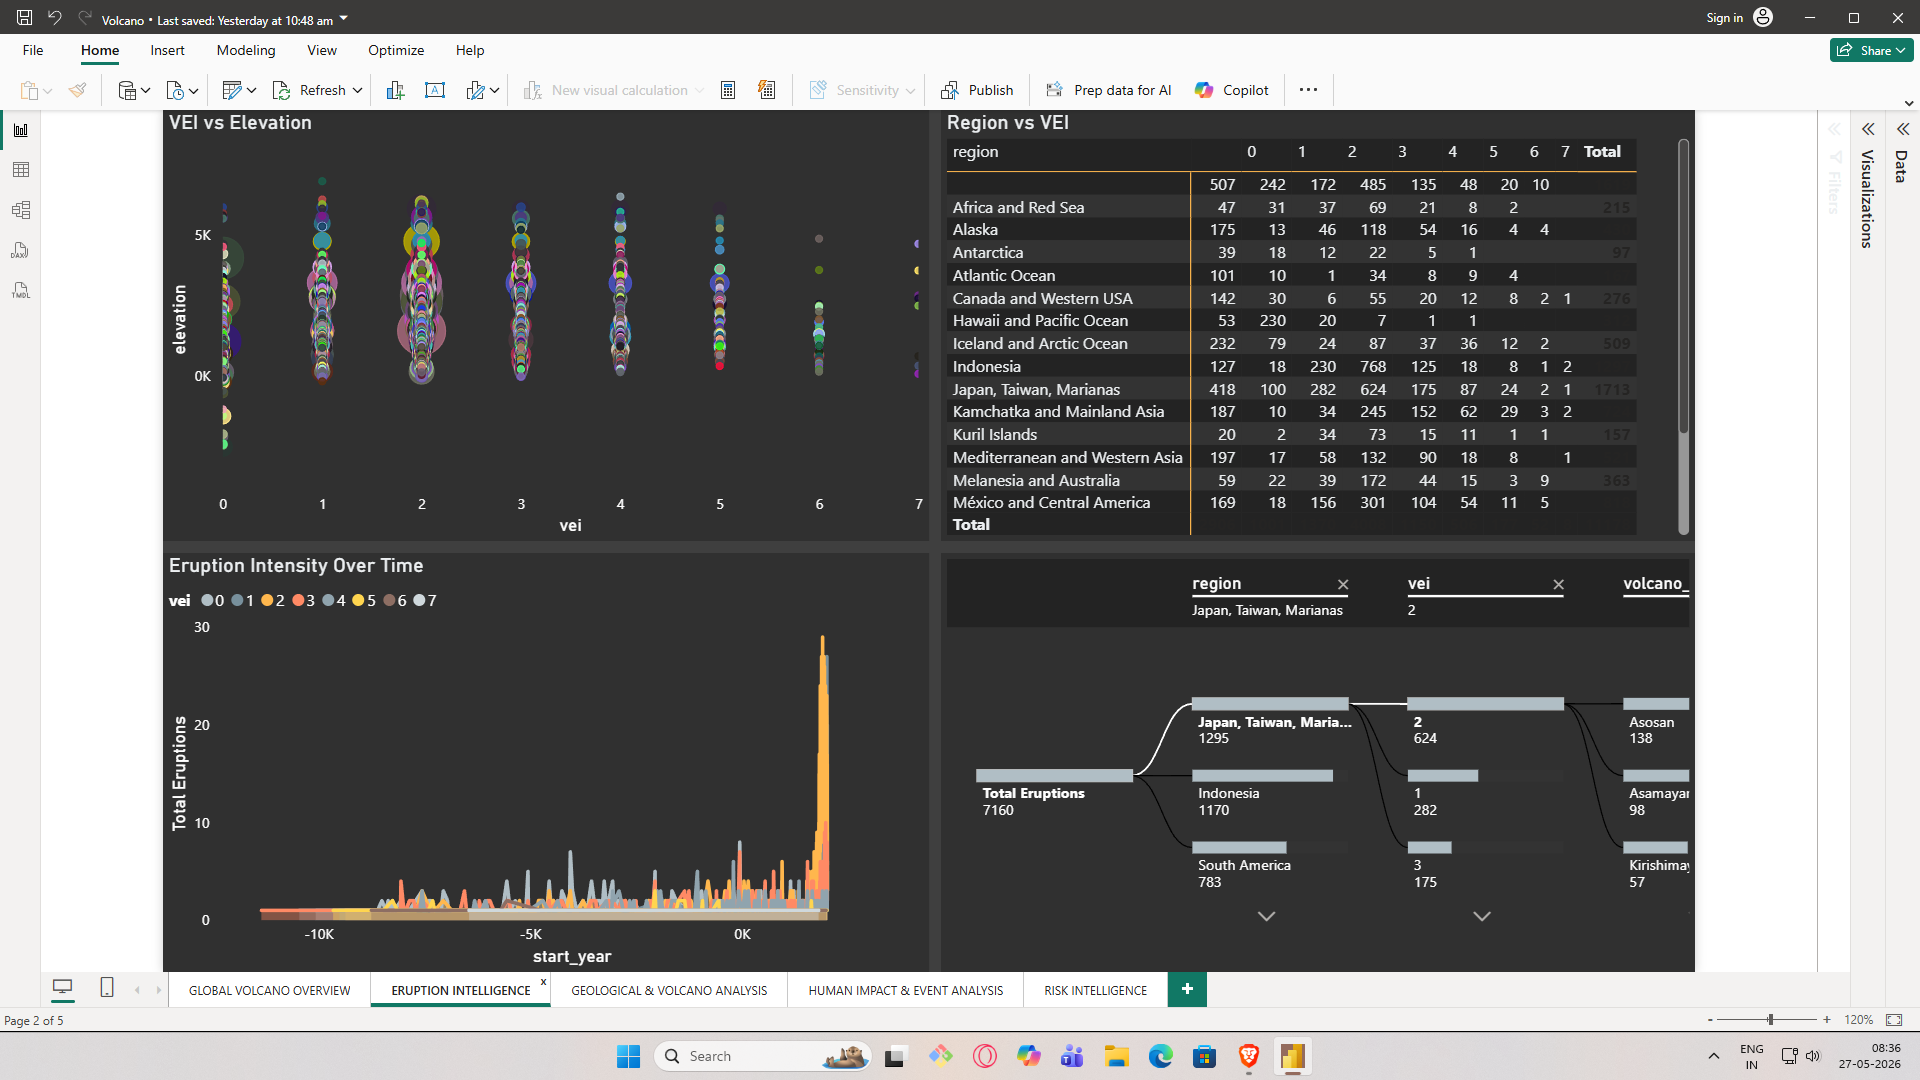

The page's visual inventory and layout, read from the dashboard file:
{"tool":"powerbi","page":{"name":"ERUPTION INTELLIGENCE","canvas":[1280,720],"ordinal":1},"visuals":[{"type":"scatterChart","title":"VEI vs Elevation","fields":{"X":["eruptions.vei"],"Y":["volcano.elevation"],"Size":["eruptions.Total Eruptions"],"Series":["eruptions.volcano_name"]},"box":[0,0,640,359.9],"z":0},{"type":"areaChart","title":"Eruption Intensity Over Time","fields":{"Category":["eruptions.start_year"],"Y":["eruptions.Total Eruptions"],"Series":["eruptions.vei"]},"box":[0,370,640,350],"z":1000},{"type":"pivotTable","title":"Region vs VEI","fields":{"Rows":["volcano.region"],"Columns":["eruptions.vei"],"Values":["eruptions.Total Eruptions"]},"box":[649.7,0,630.3,359.9],"z":2000},{"type":"decompositionTreeVisual","fields":{"Analyze":["eruptions.Total Eruptions"],"ExplainBy":["volcano.region","eruptions.vei","volcano.volcano_name"]},"box":[650,370,630,350],"z":3000}]}

Visuals, with their boxes on the page's 1280x720 design canvas (x1, y1, x2, y2). These are canvas units, not pixel positions in the 1920x1080 screenshot, which may show the page scaled, cropped or inside an application window:
"VEI vs Elevation" scatterChart: region(0, 0, 640, 360)
"Eruption Intensity Over Time" areaChart: region(0, 370, 640, 720)
"Region vs VEI" pivotTable: region(650, 0, 1280, 360)
decompositionTreeVisual - eruptions.Total Eruptions x volcano.region: region(650, 370, 1280, 720)
